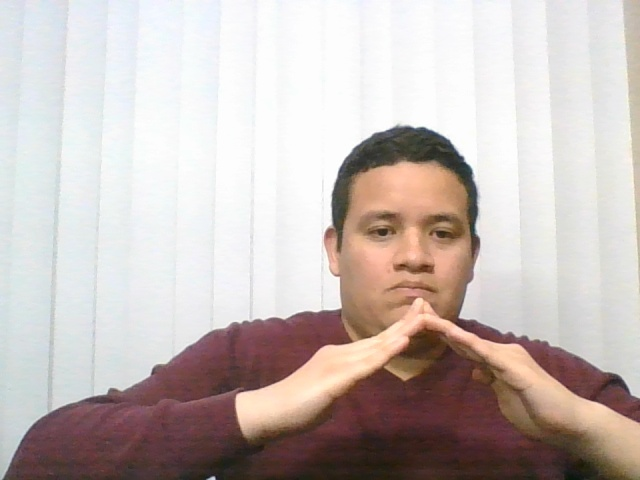House: (131, 278, 622, 470)
